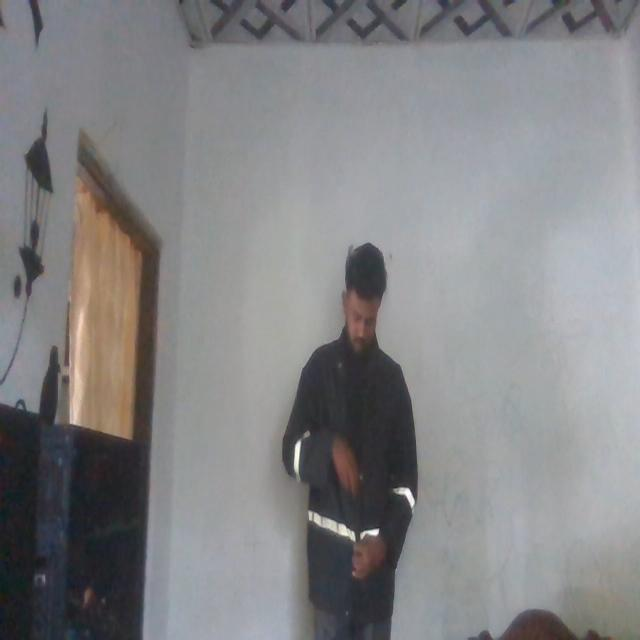Jacket_Wearer: (280, 329, 424, 608)
Person: (279, 225, 419, 635)
